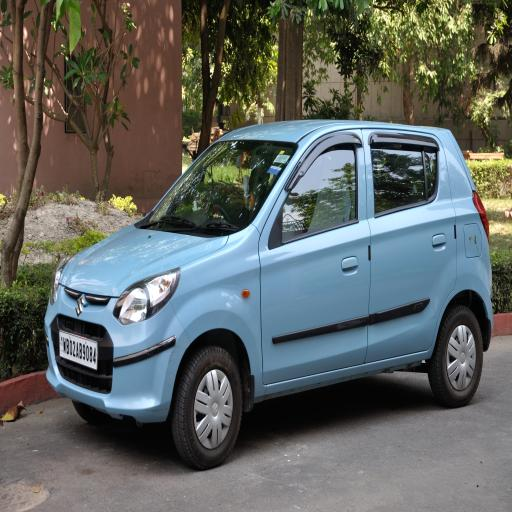License: (56, 328, 103, 374)
